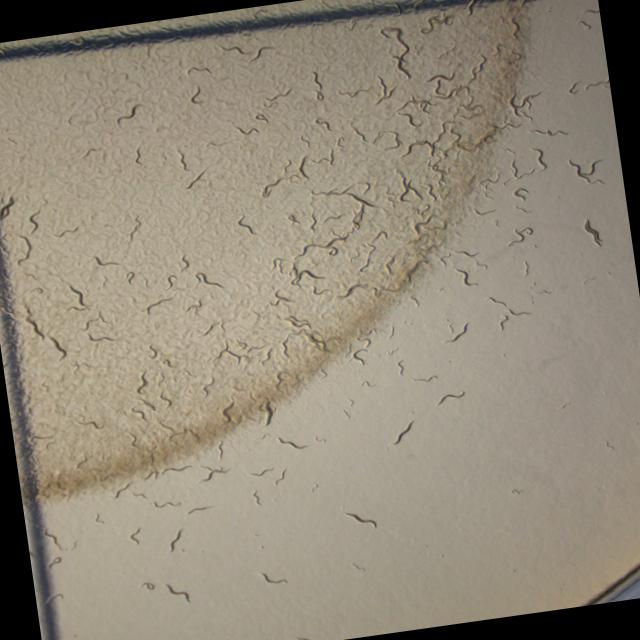filarid: (502, 147, 547, 185), (379, 27, 410, 78), (281, 329, 326, 357), (508, 91, 542, 120), (298, 236, 346, 256), (567, 159, 604, 184), (486, 296, 529, 315), (291, 265, 324, 285), (216, 342, 249, 362), (480, 171, 502, 200), (398, 140, 435, 157), (344, 510, 378, 528), (388, 421, 413, 444), (117, 103, 142, 124), (507, 226, 534, 245), (443, 322, 468, 342), (583, 218, 601, 245), (164, 583, 190, 601), (445, 322, 468, 342), (196, 271, 223, 287), (337, 283, 365, 298), (262, 177, 284, 196), (256, 571, 288, 584), (247, 46, 273, 62), (472, 197, 495, 215), (147, 297, 172, 313), (455, 267, 476, 286), (311, 71, 324, 100), (139, 393, 162, 409), (437, 391, 465, 404), (398, 172, 411, 200), (201, 466, 226, 480), (269, 291, 293, 305), (237, 215, 255, 233), (528, 128, 568, 136), (278, 437, 307, 448), (222, 397, 234, 423), (221, 45, 251, 55), (190, 83, 204, 104), (156, 389, 172, 407), (583, 78, 609, 89), (170, 529, 182, 552), (136, 370, 147, 394), (297, 156, 308, 179), (427, 72, 454, 81), (276, 368, 287, 389), (351, 349, 366, 364), (134, 143, 144, 165), (314, 118, 330, 131), (260, 347, 272, 364), (264, 403, 273, 425), (567, 80, 582, 93), (187, 66, 211, 74), (234, 126, 258, 134), (411, 375, 437, 382), (513, 187, 527, 200), (179, 150, 188, 170), (498, 314, 509, 330), (187, 505, 211, 512), (456, 249, 477, 257), (513, 204, 531, 213), (395, 359, 405, 375), (180, 255, 190, 271), (575, 19, 590, 29), (500, 121, 525, 127), (351, 561, 365, 571), (501, 146, 516, 155), (187, 176, 199, 187), (148, 344, 158, 357), (168, 275, 178, 288), (312, 286, 327, 294), (414, 189, 423, 200), (474, 260, 486, 268), (252, 491, 259, 504), (161, 358, 172, 366), (142, 582, 154, 589), (387, 347, 398, 354), (157, 372, 164, 383), (580, 9, 598, 13), (296, 636, 310, 640), (493, 219, 499, 226), (429, 193, 435, 199), (361, 381, 369, 385), (450, 324, 453, 331), (154, 502, 157, 506), (159, 504, 163, 506)
